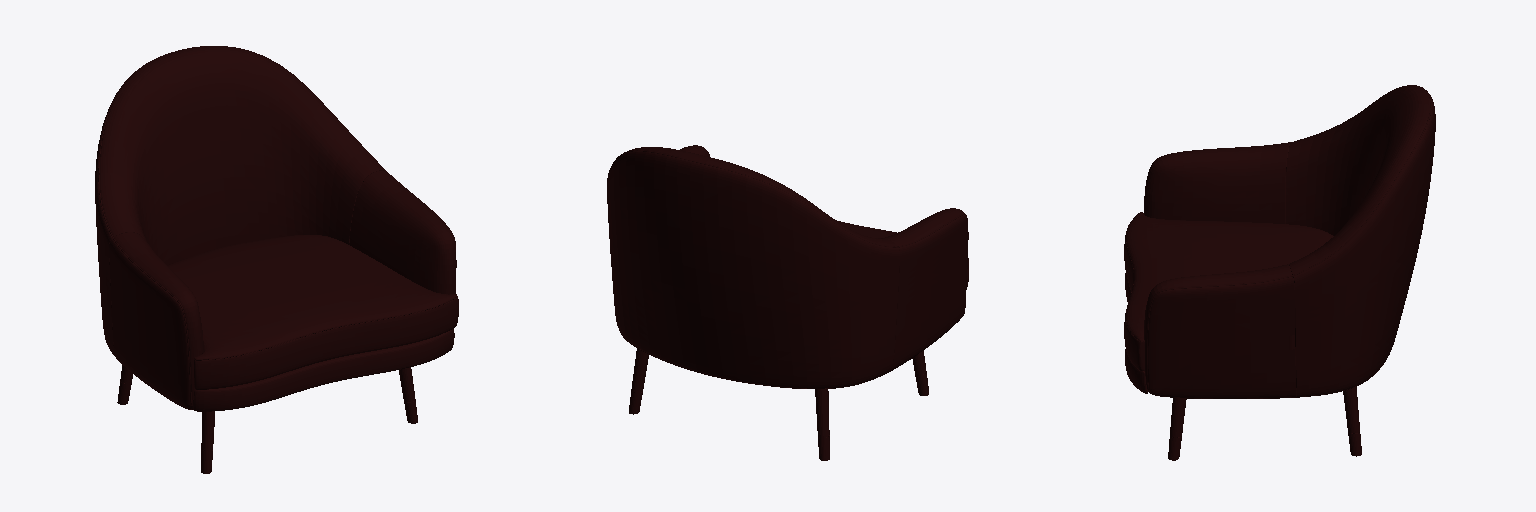
Rendered from armchair.obj.
3 views of the same model, side by side, from view 1: azimuth 30°, elevation 25°; view 2: azimuth 150°, elevation 25°; view 3: azimuth 270°, elevation 25° (orthographic).
Visible parts, largest first — view 1: bratga_003, bratga_004, bratga_005, bratga_002, bratga_006, bratga_007; view 2: bratga_003, bratga_002, bratga_006, bratga_007; view 3: bratga_003, bratga_004, bratga_002, bratga_007, bratga_006, bratga_005.
Boxes of the visible parts, x1,y1,x2,y2 form: bratga_003: [95, 46, 456, 409]; bratga_004: [167, 235, 458, 389]; bratga_005: [193, 329, 454, 411]; bratga_002: [120, 365, 414, 450]; bratga_006: [117, 382, 417, 473]; bratga_007: [98, 46, 455, 408]; bratga_003: [607, 145, 968, 388]; bratga_002: [631, 348, 926, 437]; bratga_006: [629, 373, 928, 460]; bratga_007: [617, 150, 966, 388]; bratga_003: [1144, 85, 1435, 398]; bratga_004: [1124, 212, 1333, 370]; bratga_002: [1170, 387, 1359, 437]; bratga_007: [1147, 85, 1431, 398]; bratga_006: [1168, 432, 1361, 460]; bratga_005: [1125, 273, 1147, 393].
Size of the model in its own units: 879 by 892 by 829.